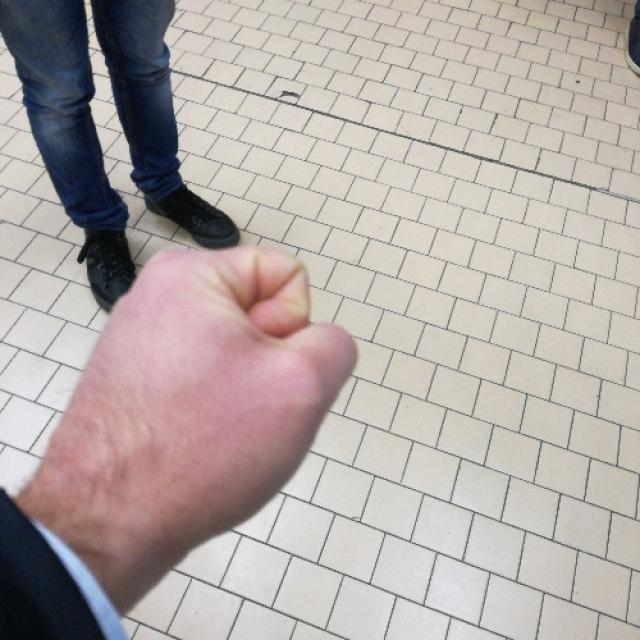rock: (39, 241, 358, 544)
